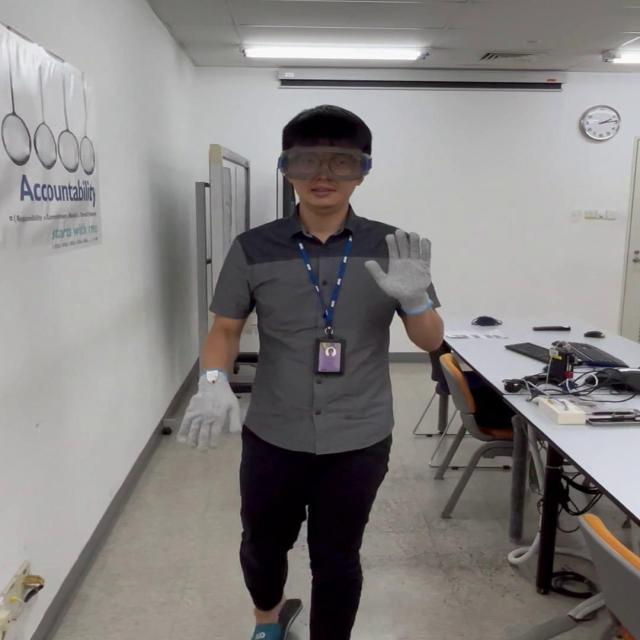gloved_hand: (177, 372, 254, 448), (367, 234, 437, 312)
